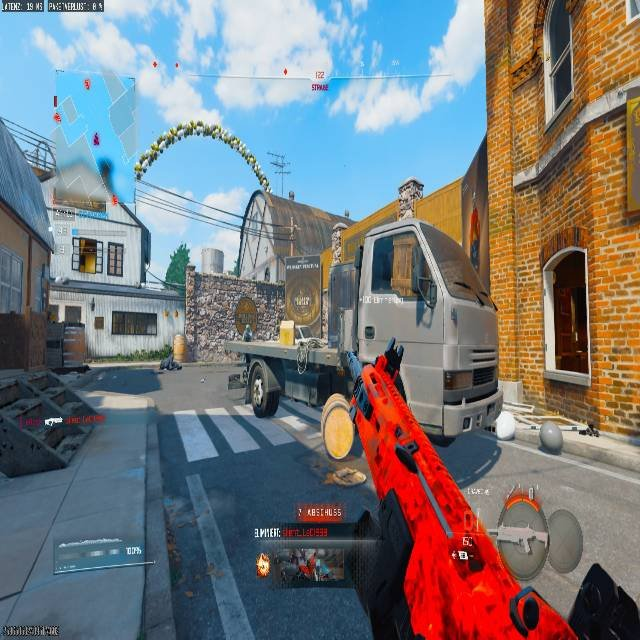head: (242, 353, 255, 369)
player: (227, 354, 283, 418)
